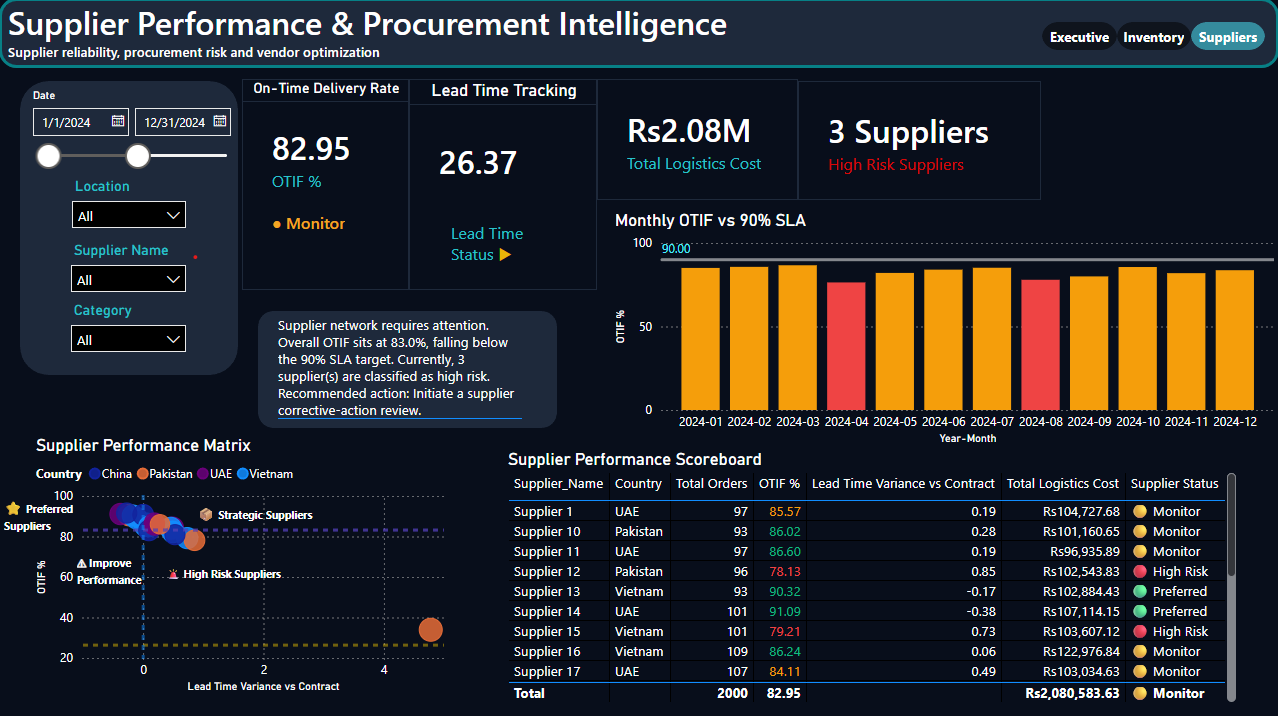

Layout of this report page (visuals, bound fields, positions):
{"tool":"powerbi","page":{"name":"Supplier Scorecard","canvas":[1280,720],"ordinal":2},"visuals":[{"type":"shape","box":[259,313,299,117],"z":0},{"type":"shape","box":[0,0,1280,70],"z":1000},{"type":"textbox","box":[6.7,0,737.8,82.8],"z":2000},{"type":"actionButton","box":[1043.4,23.6,74.3,28.6],"z":3000},{"type":"actionButton","box":[1117.7,23.6,74.3,28.6],"z":4000},{"type":"actionButton","box":[1192,23.6,74.3,28.6],"z":5000},{"type":"shape","box":[21,83,218,294],"z":6000},{"type":"slicer","title":"Warehouse Location","fields":{"Values":["dim_warehouses.Location"]},"box":[63,175,134,79],"z":7000},{"type":"slicer","title":"Warehouse Location","fields":{"Values":["dim_products.Category"]},"box":[62,299,135,66],"z":8000},{"type":"slicer","fields":{"Values":["dim_suppliers.Supplier_Name"]},"box":[62,239,135,73],"z":9000},{"type":"cardVisual","fields":{"Data":["_Measures.Total Logistics Cost"]},"box":[598.2,80.7,200.4,121.6],"z":10000},{"type":"cardVisual","title":"On-Time Delivery Rate","fields":{"Data":["_Measures.OTIF %"]},"box":[243.2,80.7,167.3,211.1],"z":11000},{"type":"cardVisual","title":"Lead Time Tracking","fields":{"Data":["_Measures.Average Lead Time (Days)"]},"box":[410.5,80.7,187.7,211.1],"z":12000},{"type":"cardVisual","fields":{"Data":["_Measures.High Risk Suppliers"]},"box":[798.5,82.7,243.2,119.6],"z":13000},{"type":"clusteredColumnChart","title":"Monthly OTIF vs 90% SLA","fields":{"Category":["Calendar.Year-Month"],"Y":["_Measures.OTIF %"]},"box":[611,212,669,239],"z":14000},{"type":"scatterChart","title":"Supplier Performance Matrix","fields":{"Y":["_Measures.OTIF %"],"Category":["dim_suppliers.Supplier_Name"],"Series":["dim_suppliers.Country"],"X":["_Measures.Lead Time Variance vs Contract"],"Size":["_Measures.Total Units Ordered"]},"box":[32.1,436.7,422.1,262.6],"z":15000},{"type":"textbox","box":[0,496,118,54],"z":16000},{"type":"textbox","box":[193.4,502.4,129.9,35.8],"z":17000},{"type":"textbox","box":[73.4,549.9,87.8,59.1],"z":18000},{"type":"textbox","box":[162.1,561.5,155.8,35.8],"z":19000},{"type":"tableEx","title":"Supplier Performance Scoreboard","fields":{"Values":["dim_suppliers.Supplier_Name","dim_suppliers.Country","_Measures.Total Orders","_Measures.OTIF %","_Measures.Lead Time Variance vs Contract","_Measures.Total Logistics Cost","_Measures.Supplier Status"]},"box":[504,451,738,258],"z":20000},{"type":"textbox","box":[274,312.5,254.3,150.4],"z":21000},{"type":"slicer","fields":{"Values":["Calendar.Date"]},"box":[21,86,228,89],"z":22000}]}

Visuals, with their boxes in screenshot pixels (x1, y1, x2, y2), scaled from the page's 1280x720 canvas onto the 1278x716 screenshot:
shape: [259, 311, 557, 428]
shape: [0, 0, 1277, 70]
textbox: [7, 0, 743, 82]
actionButton: [1042, 23, 1116, 52]
actionButton: [1116, 23, 1190, 52]
actionButton: [1190, 23, 1264, 52]
shape: [21, 83, 239, 375]
"Warehouse Location" slicer: [63, 174, 197, 253]
"Warehouse Location" slicer: [62, 297, 197, 363]
slicer - dim_suppliers.Supplier_Name: [62, 238, 197, 310]
cardVisual - _Measures.Total Logistics Cost: [597, 80, 797, 201]
"On-Time Delivery Rate" cardVisual: [243, 80, 410, 290]
"Lead Time Tracking" cardVisual: [410, 80, 597, 290]
cardVisual - _Measures.High Risk Suppliers: [797, 82, 1040, 201]
"Monthly OTIF vs 90% SLA" clusteredColumnChart: [610, 211, 1277, 448]
"Supplier Performance Matrix" scatterChart: [32, 434, 453, 695]
textbox: [0, 493, 118, 547]
textbox: [193, 500, 323, 535]
textbox: [73, 547, 161, 606]
textbox: [162, 558, 317, 594]
"Supplier Performance Scoreboard" tableEx: [503, 448, 1240, 705]
textbox: [274, 311, 527, 460]
slicer - Calendar.Date: [21, 86, 249, 174]
